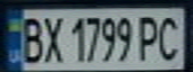1: (66, 12, 84, 63)
7: (81, 12, 103, 63)
9: (115, 12, 136, 62), (100, 14, 118, 62)
B: (15, 12, 45, 64)
C: (154, 11, 187, 62)
P: (136, 11, 163, 62)
X: (39, 12, 66, 64)
